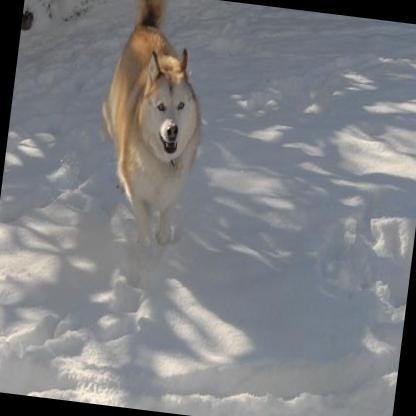Siberian_husky: (86, 0, 214, 254)
